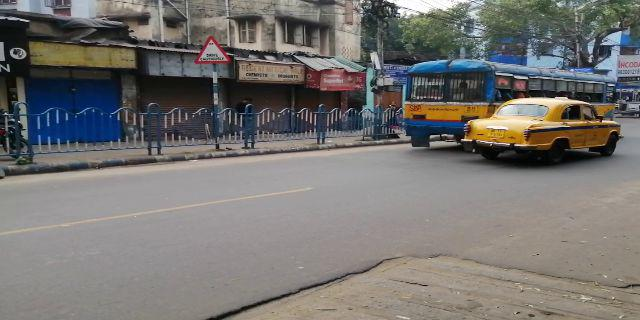Bus: (400, 62, 618, 144)
Car: (462, 98, 626, 158)
